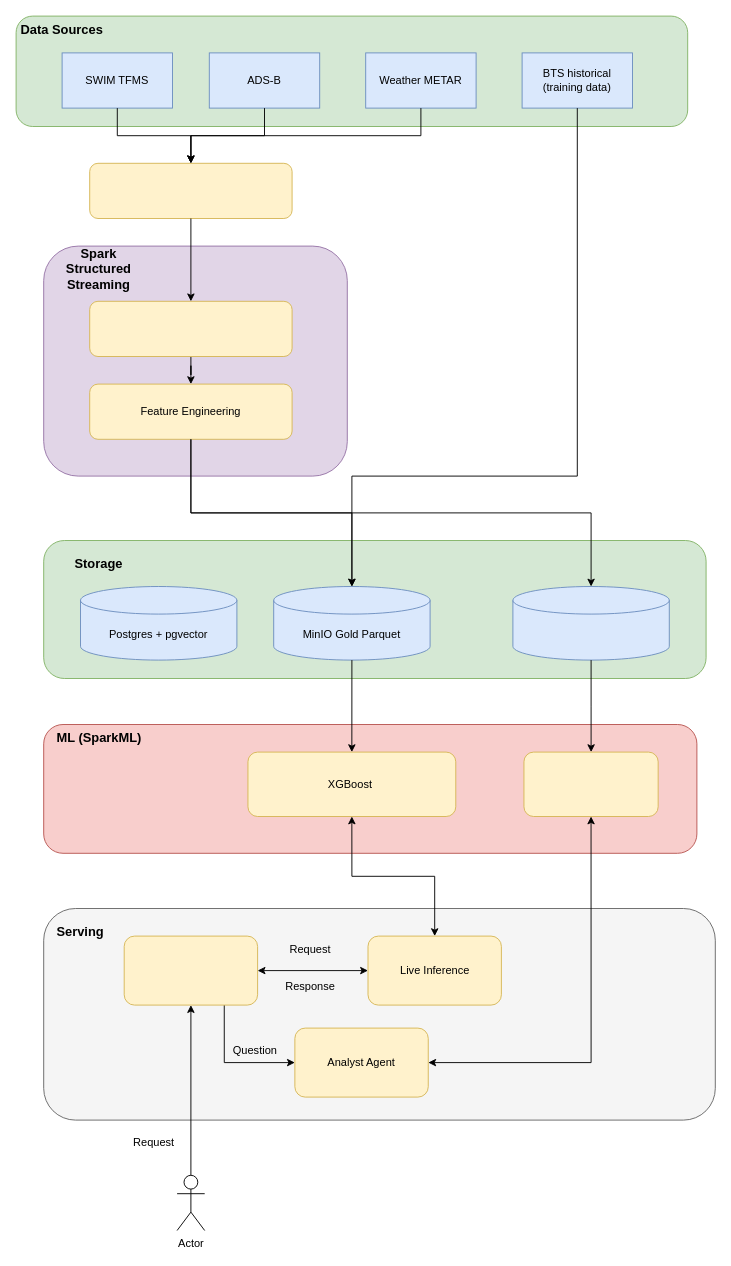
Some shapes in this 731 by 1266 pixel diagram are drawn without their labels. Here are the shapes that lost their labels. From the top down, the centre of each, then its label:
At (x=190, y=190): "Apache Kafka Topics - 48 hr".
At (x=190, y=328): "Parse + Validate + Fuse".
At (x=590, y=623): "MongoDB (Vector Index)".
At (x=590, y=783): "RAG".
At (x=190, y=970): "User Interface".
